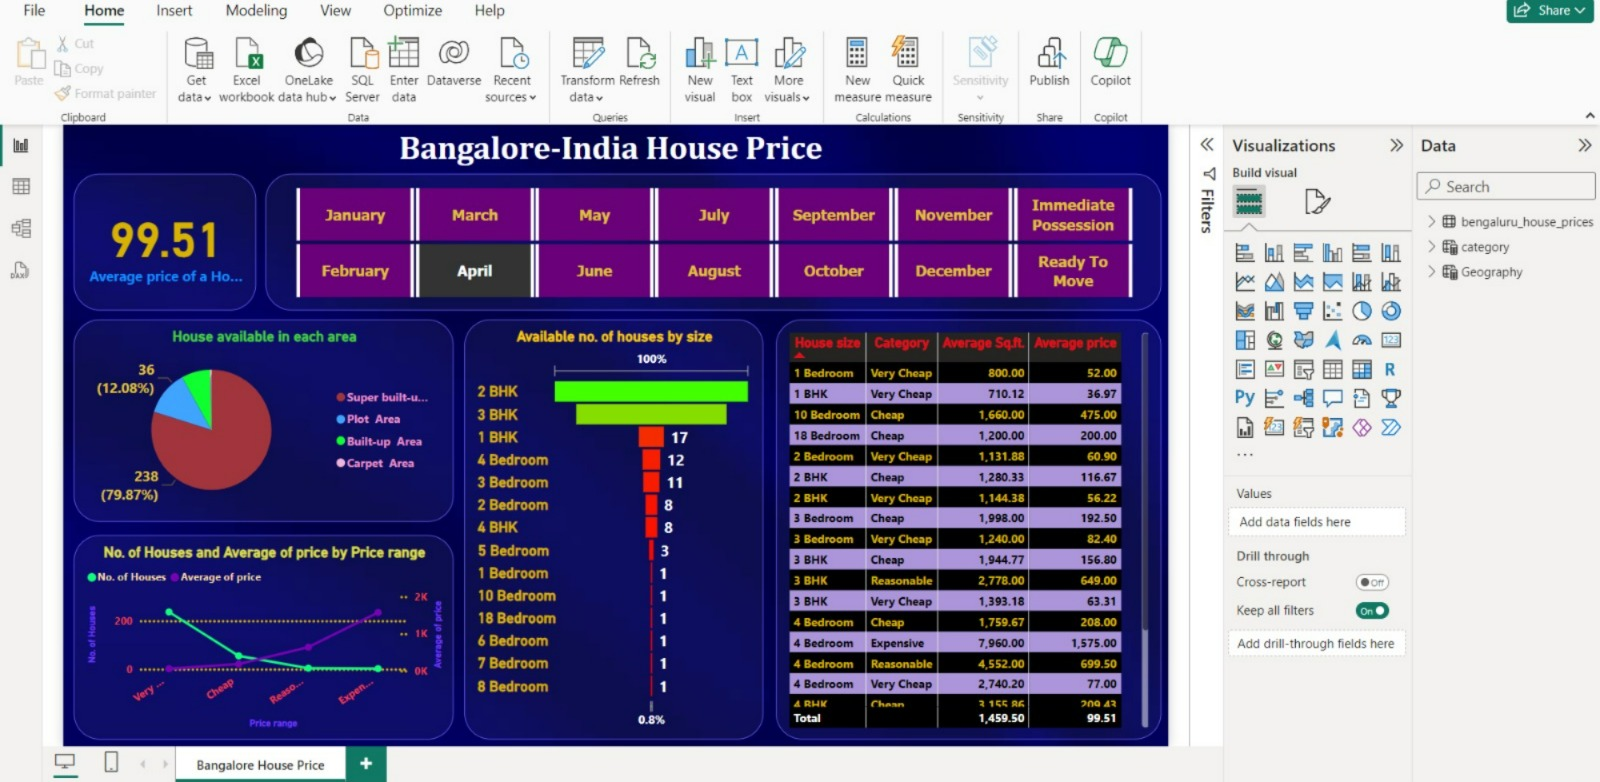

This screenshot's page, from the dashboard's own definition file:
{"tool":"powerbi","page":{"name":"Bangalore House Price","canvas":[1280,720],"ordinal":0},"visuals":[{"type":"card","fields":{"Values":["Avg(bengaluru_house_prices.price)"]},"box":[12.1,56.7,211.1,158],"z":0},{"type":"slicer","fields":{"Values":["bengaluru_house_prices.Available Month"]},"box":[234,56.7,1037.5,158],"z":1000},{"type":"lineChart","fields":{"Category":["bengaluru_house_prices.Price range"],"Y":["CountNonNull(bengaluru_house_prices.price)"],"Y2":["Avg(bengaluru_house_prices.price)"]},"box":[12.1,475.3,440.4,236.5],"z":2000},{"type":"pieChart","title":"House available in each area","fields":{"Y":["CountNonNull(bengaluru_house_prices.area_type)"],"Category":["bengaluru_house_prices.area_type"]},"box":[12.1,225.6,440.4,234],"z":3000},{"type":"funnel","fields":{"Category":["bengaluru_house_prices.size"],"Y":["CountNonNull(bengaluru_house_prices.area_type)"]},"box":[464.5,225.6,346.2,486.2],"z":4000},{"type":"tableEx","fields":{"Values":["bengaluru_house_prices.size","bengaluru_house_prices.Price range","Avg(bengaluru_house_prices.Total Sq.ft.)","Avg(bengaluru_house_prices.price)"]},"box":[825.2,225.6,446.4,486.2],"z":5000},{"type":"textbox","box":[12.1,0,1243.8,56.7],"z":6000}]}

Visuals, with their boxes on the page's 1280x720 design canvas (x1, y1, x2, y2). These are canvas units, not pixel positions in the 1600x782 screenshot, which may show the page scaled, cropped or inside an application window:
card - Avg(bengaluru_house_prices.price): (x1=12, y1=57, x2=223, y2=215)
slicer - bengaluru_house_prices.Available Month: (x1=234, y1=57, x2=1272, y2=215)
lineChart - bengaluru_house_prices.Price range x CountNonNull(bengaluru_house_prices.price): (x1=12, y1=475, x2=452, y2=712)
"House available in each area" pieChart: (x1=12, y1=226, x2=452, y2=460)
funnel - bengaluru_house_prices.size x CountNonNull(bengaluru_house_prices.area_type): (x1=464, y1=226, x2=811, y2=712)
tableEx - bengaluru_house_prices.size x bengaluru_house_prices.Price range: (x1=825, y1=226, x2=1272, y2=712)
textbox: (x1=12, y1=0, x2=1256, y2=57)
